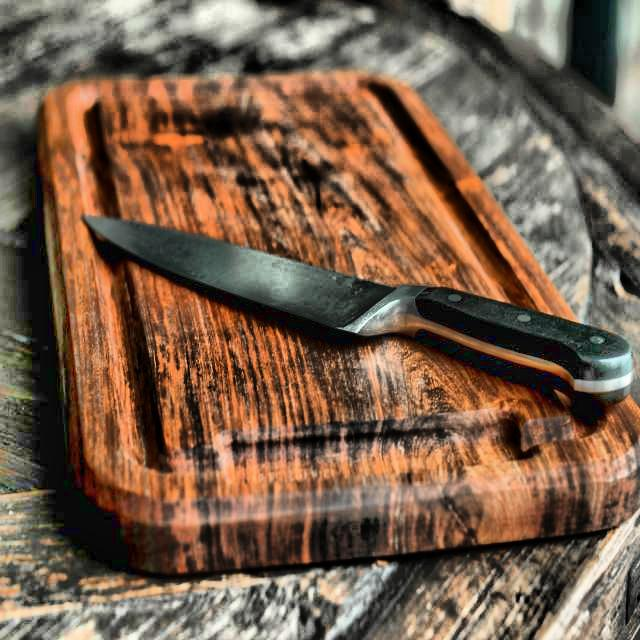knife: (75, 194, 640, 424)
